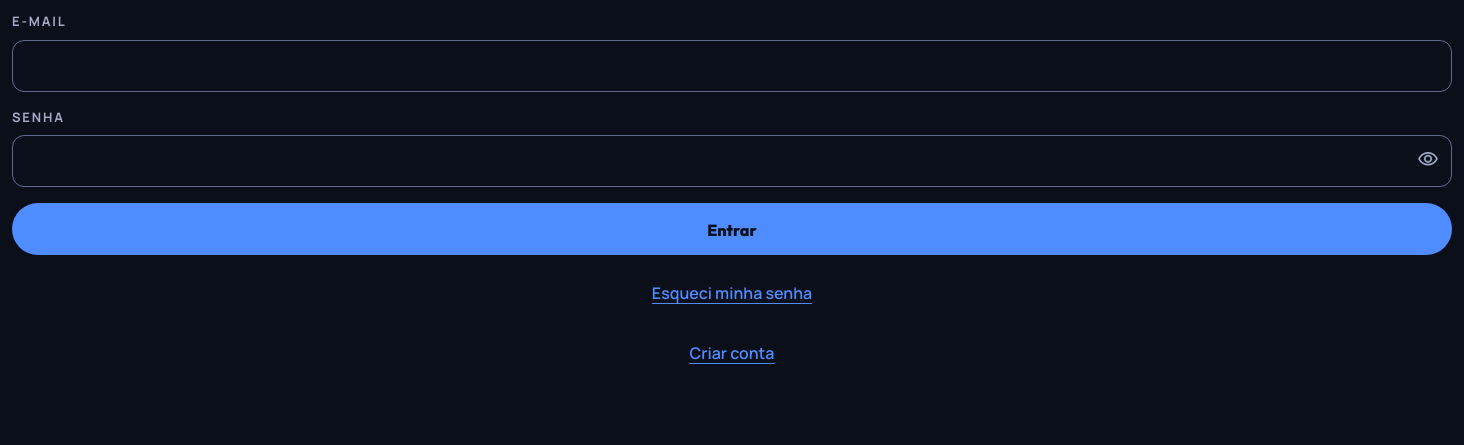
LoginForm — envio › campos vazios: mensagens locais e NENHUMA request
Step 1. Click the button "Entrar" → (732, 229), box [12,203,1452,255]
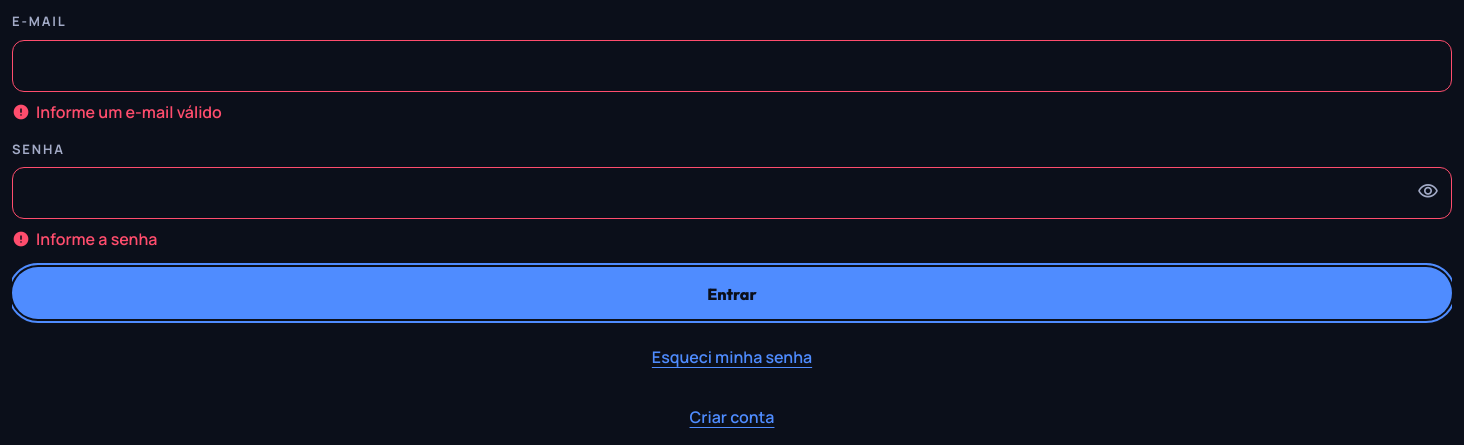
Expected: the text "Informe um e-mail válido" is shown, [12,100,222,122]
Expected: the text "Informe a senha" is shown, [12,228,157,250]
